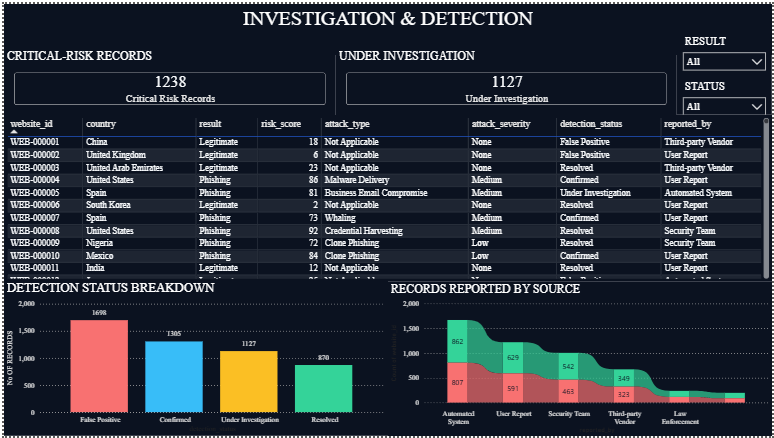

What the dashboard file says about the page in this screenshot:
{"tool":"powerbi","page":{"name":"Investigation","canvas":[1280,720],"ordinal":3},"visuals":[{"type":"textbox","title":"INVESTIGATION & DETECTION","box":[0,0,1280,85],"z":0},{"type":"cardVisual","title":"CRITICAL-RISK RECORDS","fields":{"Data":["Measures (2).Critical Risk Records"]},"box":[0,75,553.3,110],"z":1000},{"type":"cardVisual","title":"UNDER INVESTIGATION","fields":{"Data":["Measures (2).Under Investigation"]},"box":[553.3,75,568.3,110],"z":2000},{"type":"tableEx","fields":{"Values":["phishing_dataset_advanced.website_id","phishing_dataset_advanced.country","phishing_dataset_advanced.result","phishing_dataset_advanced.risk_score","phishing_dataset_advanced.attack_type","phishing_dataset_advanced.attack_severity","phishing_dataset_advanced.detection_status","phishing_dataset_advanced.reported_by"]},"box":[0,185,1280,278.3],"z":3000},{"type":"columnChart","title":"DETECTION STATUS BREAKDOWN","fields":{"Category":["phishing_dataset_advanced.detection_status"],"Y":["CountNonNull(phishing_dataset_advanced.website_id)"]},"box":[0,463.3,640,256.7],"z":4000},{"type":"ribbonChart","title":"RECORDS REPORTED BY SOURCE","fields":{"Category":["phishing_dataset_advanced.reported_by"],"Y":["CountNonNull(phishing_dataset_advanced.website_id)"],"Series":["phishing_dataset_advanced.result"]},"box":[640,463,640,257],"z":5000},{"type":"slicer","fields":{"Values":["phishing_dataset_advanced.result"]},"box":[1121.7,46.7,158.3,75],"z":6000},{"type":"slicer","fields":{"Values":["phishing_dataset_advanced.detection_status"]},"box":[1121.7,121.7,158.3,63.3],"z":7000}]}

Visuals, with their boxes in screenshot pixels (x1, y1, x2, y2), scaled from the page's 1280x720 canvas onto the 774x438 screenshot:
"INVESTIGATION & DETECTION" textbox: 0/0/773/52
"CRITICAL-RISK RECORDS" cardVisual: 0/46/335/113
"UNDER INVESTIGATION" cardVisual: 335/46/678/113
tableEx - phishing_dataset_advanced.website_id x phishing_dataset_advanced.country: 0/113/773/282
"DETECTION STATUS BREAKDOWN" columnChart: 0/282/387/437
"RECORDS REPORTED BY SOURCE" ribbonChart: 387/282/773/437
slicer - phishing_dataset_advanced.result: 678/28/773/74
slicer - phishing_dataset_advanced.detection_status: 678/74/773/113
